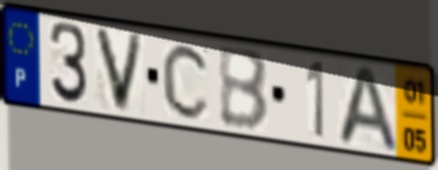1: (303, 60, 327, 143)
3: (46, 21, 91, 108)
A: (334, 63, 402, 156)
B: (215, 46, 271, 135)
C: (160, 40, 213, 122)
V: (91, 23, 147, 116)
